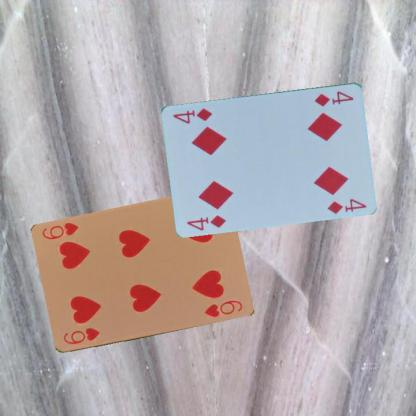4d: (184, 212, 228, 232), (312, 88, 355, 107)
6h: (60, 325, 101, 346)
